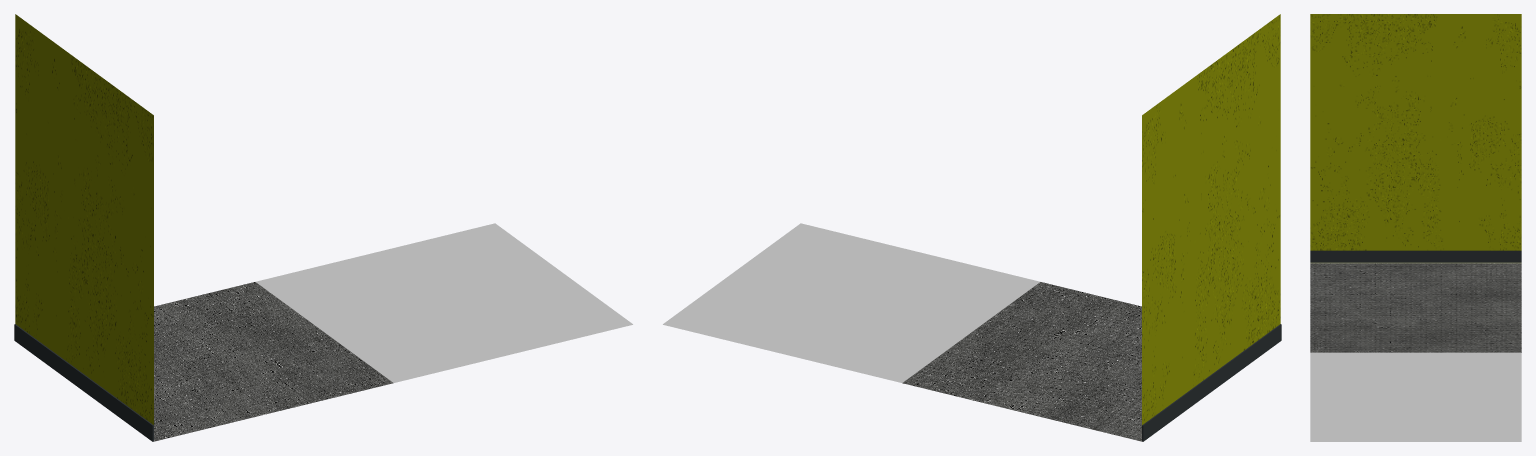
The model's file is area_props.fbx.
3 views of the same model, side by side, from view 1: azimuth 30°, elevation 25°; view 2: azimuth 150°, elevation 25°; view 3: azimuth 270°, elevation 25° (orthographic). The views are drawn at different scales.
Parts seen in each view (by area): view 1: Plane.022, Plane.019, Plane.023; view 2: Plane.022, Plane.019, Plane.023; view 3: Plane.022, Plane.019, Plane.023.
Part boxes in pixels (x1=…): Plane.022: x1=14, y1=14, x2=153, y2=441; Plane.019: x1=255, y1=223, x2=632, y2=382; Plane.023: x1=154, y1=282, x2=393, y2=441; Plane.022: x1=1142, y1=14, x2=1281, y2=441; Plane.019: x1=663, y1=223, x2=1040, y2=382; Plane.023: x1=902, y1=282, x2=1141, y2=441; Plane.022: x1=1310, y1=14, x2=1521, y2=263; Plane.019: x1=1310, y1=352, x2=1521, y2=441; Plane.023: x1=1310, y1=263, x2=1521, y2=352.
Size of the model in its own units: 802 by 520 by 400.
